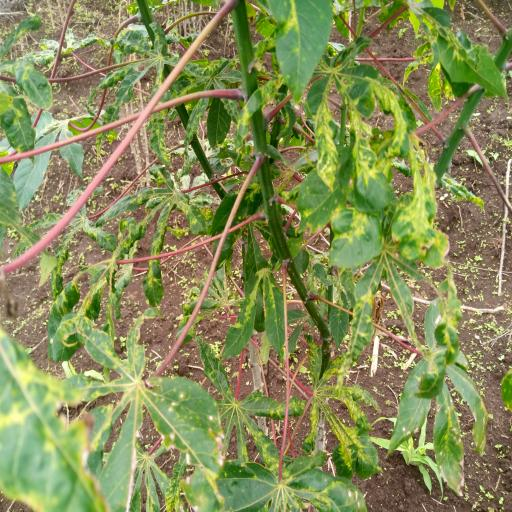Cassava_Mosaic: (68, 321, 233, 502), (397, 290, 488, 490), (309, 54, 409, 185), (336, 190, 455, 289)
